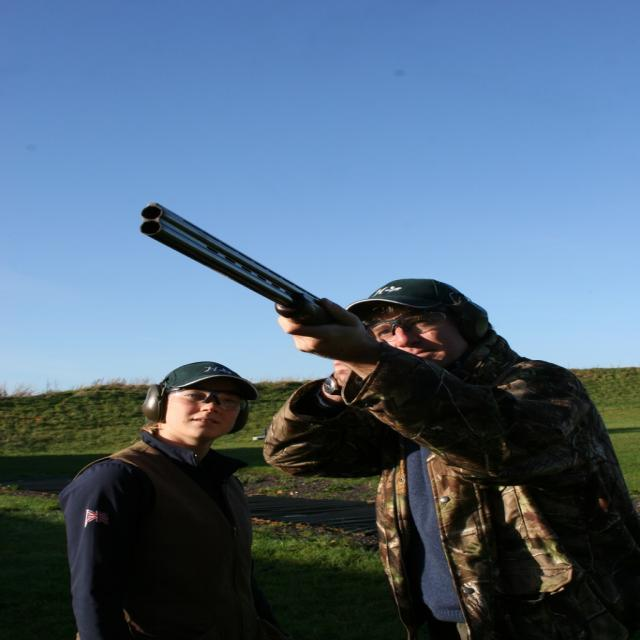weapon: (166, 198, 397, 381)
